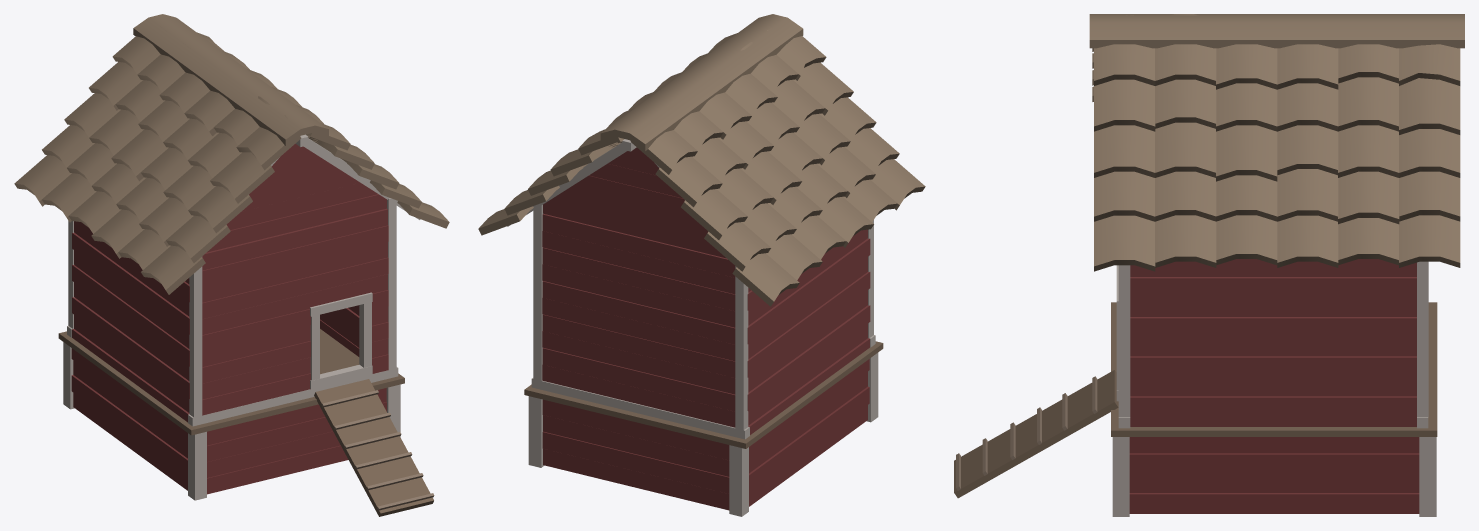
File: chicken coop.fbx
3 views of the same model, side by side, from view 1: azimuth 30°, elevation 25°; view 2: azimuth 150°, elevation 25°; view 3: azimuth 270°, elevation 25° (orthographic). The views are drawn at different scales.
Parts seen in each view (by area): view 1: pCube16; view 2: pCube16; view 3: pCube16.
Boxes of the visible parts, <box> form: pCube16: <box>14,14,449,516</box>; pCube16: <box>478,14,925,516</box>; pCube16: <box>954,14,1464,516</box>.
Size of the model in its own units: 92.01 by 109 by 115.
